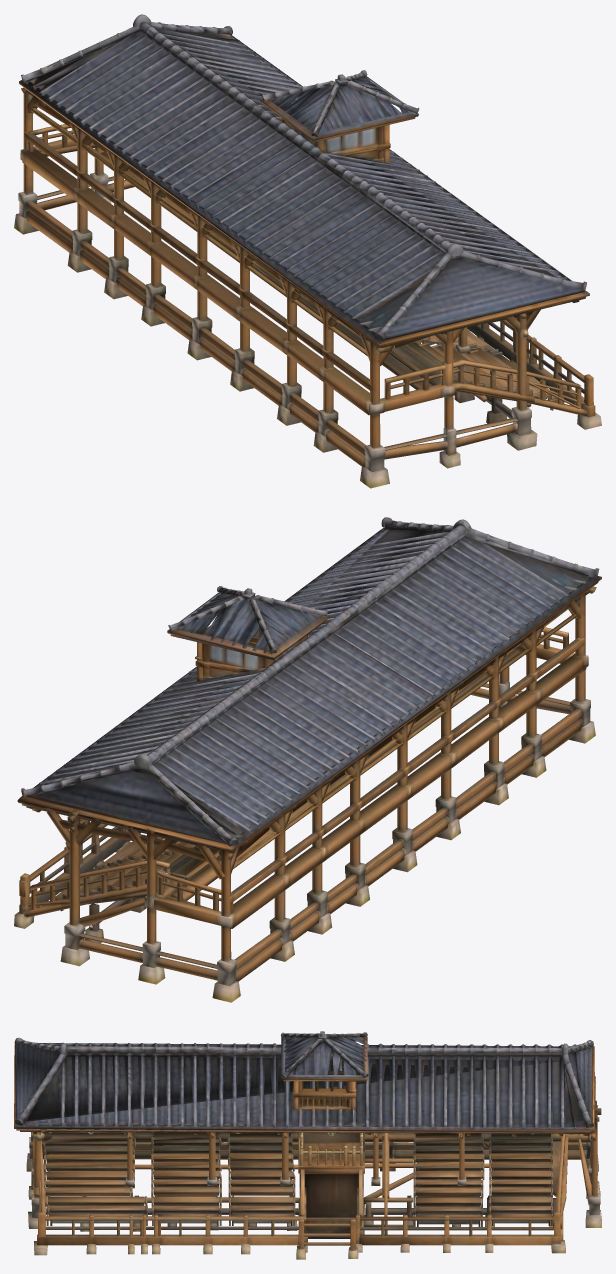
The model's file is grandstand.glb.
The picture shows the model from 3 angles, top to bottom: view 1: azimuth 30°, elevation 25°; view 2: azimuth 150°, elevation 25°; view 3: azimuth 270°, elevation 25°; orthographic projection. The views are drawn at different scales.
Visible parts, largest first — view 1: tripo_node_d791cab5-3476-4925-85c1-f4131c7af4b8; view 2: tripo_node_d791cab5-3476-4925-85c1-f4131c7af4b8; view 3: tripo_node_d791cab5-3476-4925-85c1-f4131c7af4b8.
Boxes of the visible parts, box(x1,y1,x2,y2) form: tripo_node_d791cab5-3476-4925-85c1-f4131c7af4b8: box(14, 14, 601, 488); tripo_node_d791cab5-3476-4925-85c1-f4131c7af4b8: box(14, 517, 601, 1002); tripo_node_d791cab5-3476-4925-85c1-f4131c7af4b8: box(14, 1031, 601, 1259).
Bounding box in the file's own units: 0.395 × 0.3628 × 0.9976.
Materials: 1 (1 with a texture image).
